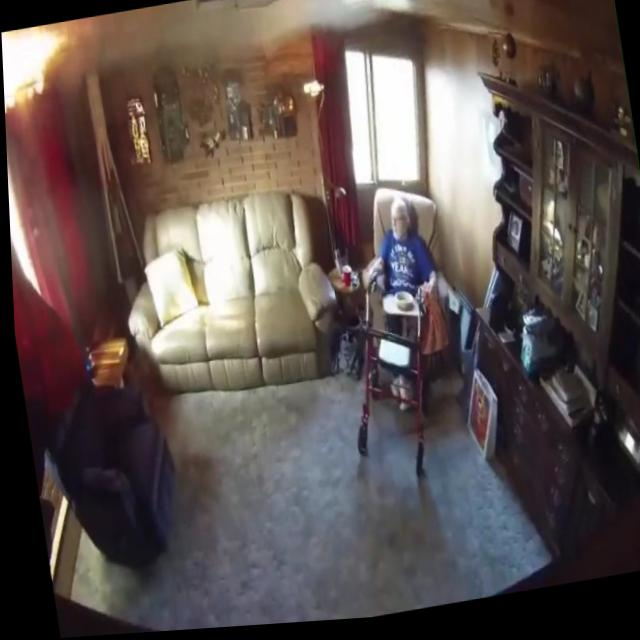fire: (1, 31, 69, 112)
